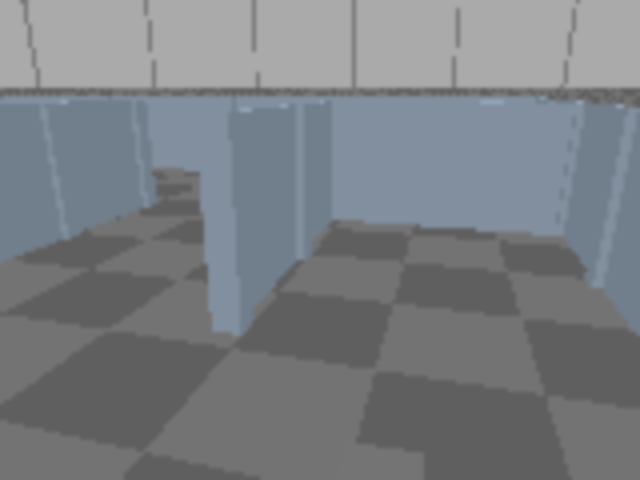obstacle: (323, 441, 426, 478)
